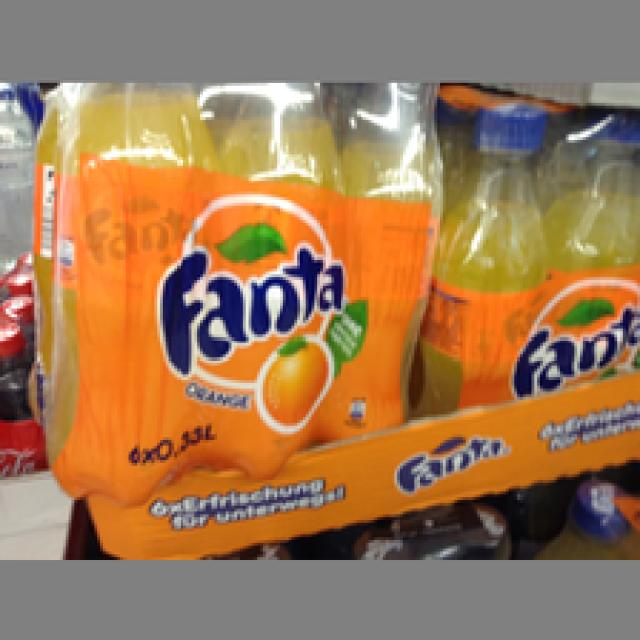groceries: (52, 80, 212, 494), (209, 80, 337, 477), (323, 83, 440, 440), (417, 103, 546, 411), (546, 105, 637, 388)
